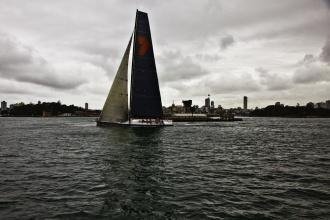fanchuan: (88, 9, 192, 126)
